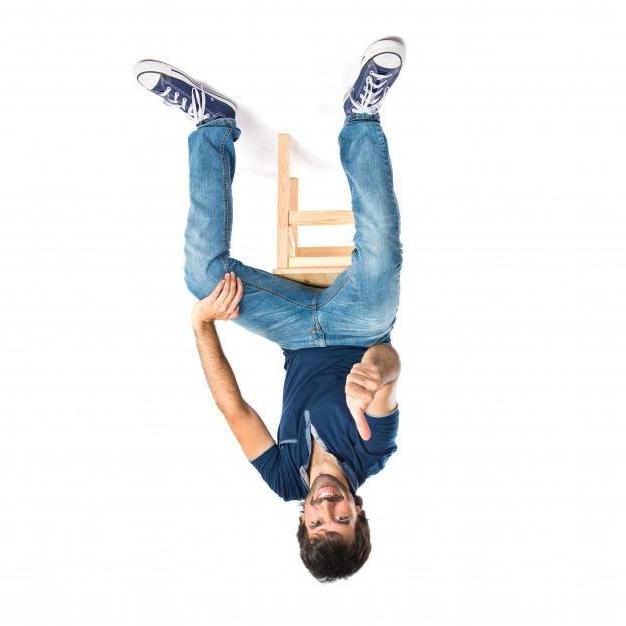thumbsdown: (345, 362, 381, 441)
